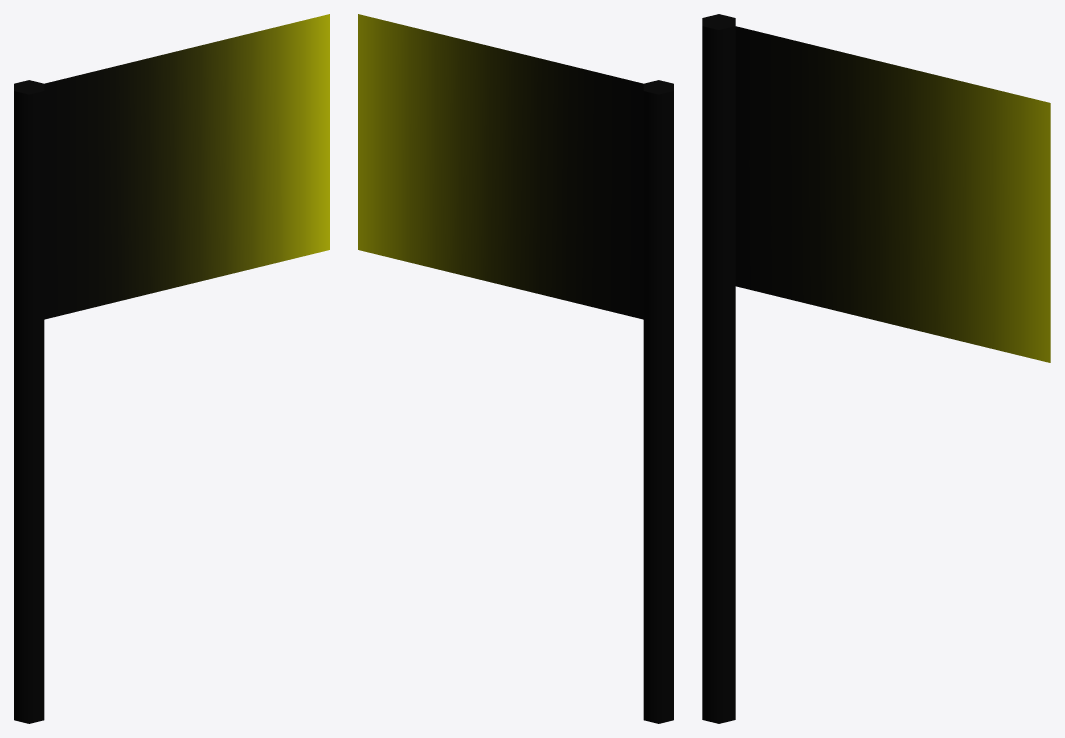
The model's file is flag.fbx.
3 renders of one model, left to right at view 1: azimuth 30°, elevation 25°; view 2: azimuth 150°, elevation 25°; view 3: azimuth 330°, elevation 25°, orthographic. The views are drawn at different scales.
Visible parts, largest first — view 1: flag.pole; view 2: flag.pole; view 3: flag.pole.
Boxes of the visible parts, box(x1,y1,x2,y2) form: flag.pole: box(14, 14, 329, 723); flag.pole: box(358, 14, 673, 723); flag.pole: box(702, 14, 1050, 723).
Bounding box in the file's own units: 1.05 × 2 × 0.0866.
